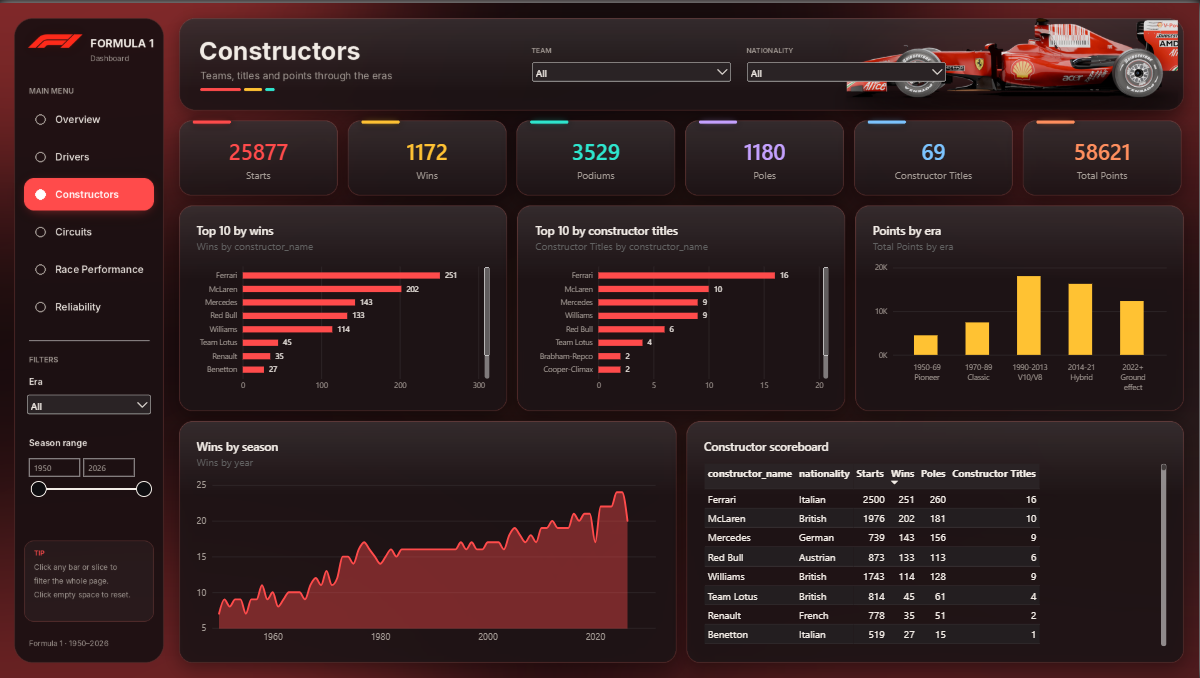

This screenshot's page, from the dashboard's own definition file:
{"tool":"powerbi","page":{"name":"Constructors","canvas":[1920,1080],"ordinal":2},"visuals":[{"type":"actionButton","box":[40,160,208,52],"z":1000},{"type":"actionButton","box":[40,220,208,52],"z":2000},{"type":"actionButton","box":[40,280,208,52],"z":3000},{"type":"actionButton","box":[40,340,208,52],"z":4000},{"type":"actionButton","box":[40,400,208,52],"z":5000},{"type":"actionButton","box":[40,460,208,52],"z":6000},{"type":"slicer","fields":{"Values":["dim_race.era"]},"box":[40,622,208,44],"z":7000},{"type":"slicer","fields":{"Values":["dim_race.year"]},"box":[40,724,208,96],"z":8000},{"type":"slicer","fields":{"Values":["dim_constructor.constructor_name"]},"box":[848,90,328,40],"z":9000},{"type":"slicer","fields":{"Values":["dim_constructor.nationality"]},"box":[1192,90,328,40],"z":10000},{"type":"card","fields":{"Values":["_Measures.Starts"]},"box":[300,202,230,96],"z":11000},{"type":"card","fields":{"Values":["_Measures.Wins"]},"box":[570,202,230,96],"z":12000},{"type":"card","fields":{"Values":["_Measures.Podiums"]},"box":[840,202,230,96],"z":13000},{"type":"card","fields":{"Values":["_Measures.Poles"]},"box":[1110,202,230,96],"z":14000},{"type":"card","fields":{"Values":["_Measures.Constructor Titles"]},"box":[1380,202,230,96],"z":15000},{"type":"card","fields":{"Values":["_Measures.Total Points"]},"box":[1650,202,230,96],"z":16000},{"type":"clusteredBarChart","title":"Top 10 by wins","fields":{"Category":["dim_constructor.constructor_name"],"Y":["_Measures.Wins"]},"box":[300,336,501,305],"z":17000},{"type":"clusteredBarChart","title":"Top 10 by constructor titles","fields":{"Category":["dim_constructor.constructor_name"],"Y":["_Measures.Constructor Titles"]},"box":[841,336,501,305],"z":18000},{"type":"clusteredColumnChart","title":"Points by era","fields":{"Category":["dim_race.era"],"Y":["_Measures.Total Points"]},"box":[1382,336,502,305],"z":19000},{"type":"areaChart","title":"Wins by season","fields":{"Category":["dim_race.year"],"Y":["_Measures.Wins"]},"box":[300,681,772,363],"z":20000},{"type":"tableEx","title":"Constructor scoreboard","fields":{"Values":["dim_constructor.constructor_name","dim_constructor.nationality","_Measures.Starts","_Measures.Wins","_Measures.Poles","_Measures.Constructor Titles"]},"box":[1112,681,772,363],"z":21000}]}

Visuals, with their boxes in screenshot pixels (x1, y1, x2, y2), scaled from the page's 1920x1080 canvas onto the 1200x678 screenshot:
actionButton: (left=25, top=100, right=155, bottom=133)
actionButton: (left=25, top=138, right=155, bottom=171)
actionButton: (left=25, top=176, right=155, bottom=208)
actionButton: (left=25, top=213, right=155, bottom=246)
actionButton: (left=25, top=251, right=155, bottom=284)
actionButton: (left=25, top=289, right=155, bottom=321)
slicer - dim_race.era: (left=25, top=390, right=155, bottom=418)
slicer - dim_race.year: (left=25, top=455, right=155, bottom=515)
slicer - dim_constructor.constructor_name: (left=530, top=56, right=735, bottom=82)
slicer - dim_constructor.nationality: (left=745, top=56, right=950, bottom=82)
card - _Measures.Starts: (left=188, top=127, right=331, bottom=187)
card - _Measures.Wins: (left=356, top=127, right=500, bottom=187)
card - _Measures.Podiums: (left=525, top=127, right=669, bottom=187)
card - _Measures.Poles: (left=694, top=127, right=838, bottom=187)
card - _Measures.Constructor Titles: (left=862, top=127, right=1006, bottom=187)
card - _Measures.Total Points: (left=1031, top=127, right=1175, bottom=187)
"Top 10 by wins" clusteredBarChart: (left=188, top=211, right=501, bottom=402)
"Top 10 by constructor titles" clusteredBarChart: (left=526, top=211, right=839, bottom=402)
"Points by era" clusteredColumnChart: (left=864, top=211, right=1178, bottom=402)
"Wins by season" areaChart: (left=188, top=428, right=670, bottom=655)
"Constructor scoreboard" tableEx: (left=695, top=428, right=1178, bottom=655)
